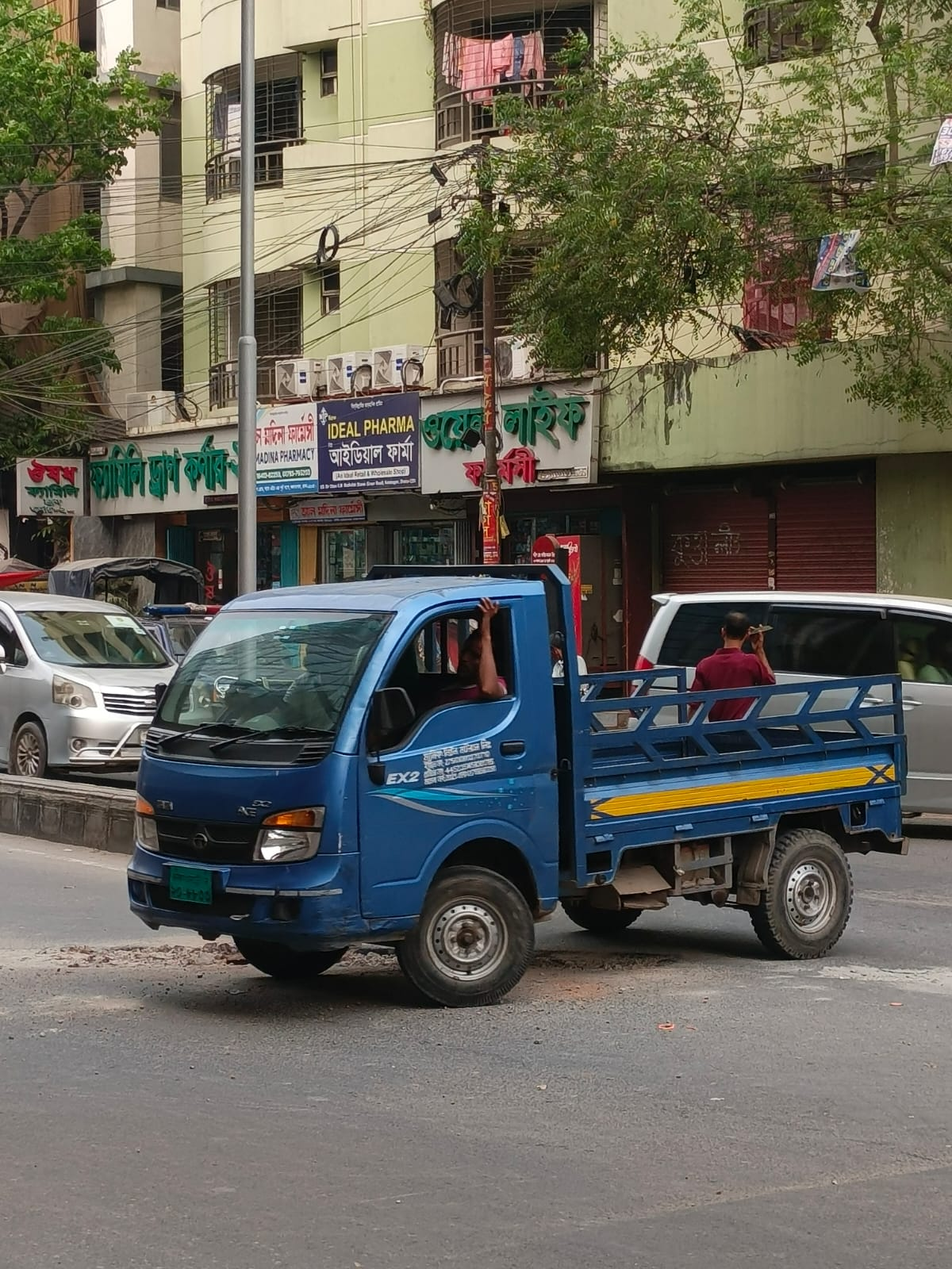Pickup: (135, 553, 896, 1007)
